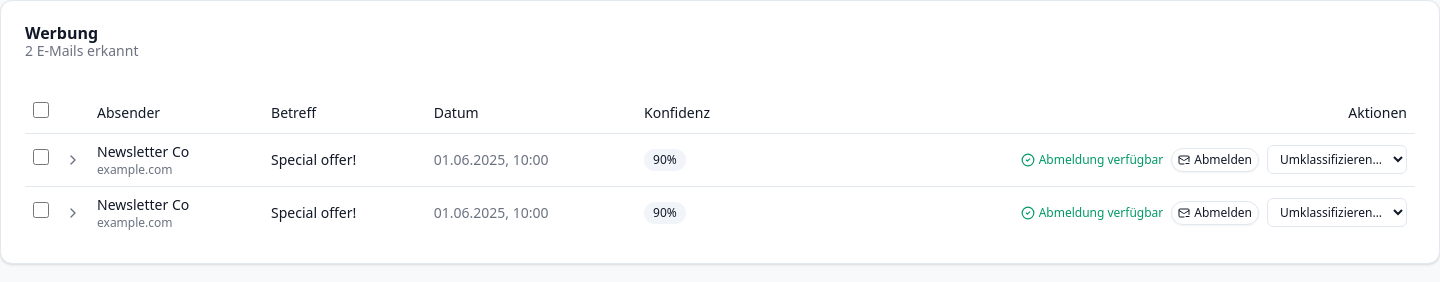
select all toggle › deselects all when all are selected
Note: Select all
Click the checkbox named "Alle auswählen" at (41, 110), box [33,102,49,118]
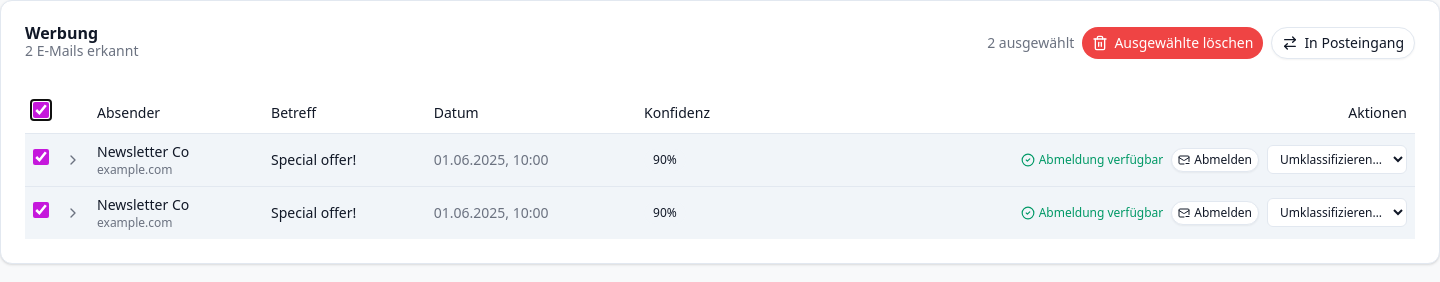
Expected: the text "2 ausgewählt" is shown, [987,33,1074,53]
Note: Click again to deselect all
Click the checkbox named "Alle abwählen" at (41, 110), box [33,102,49,118]
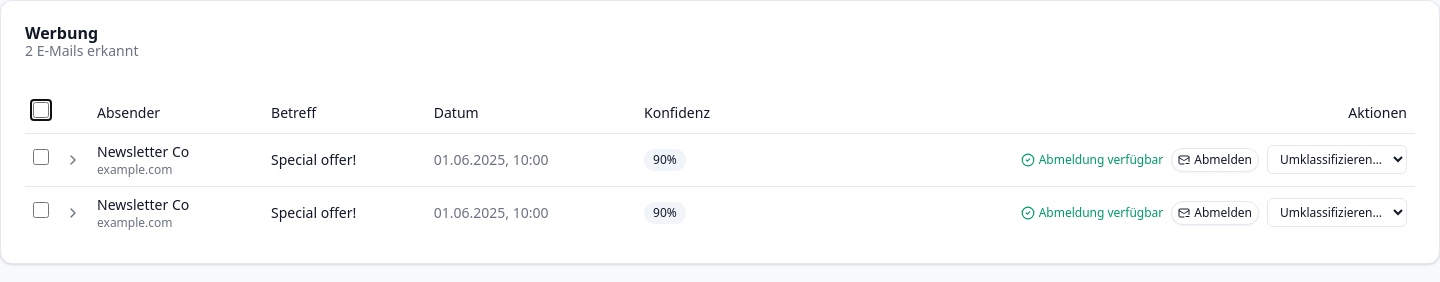
Expected: the text "ausgewählt" is gone
